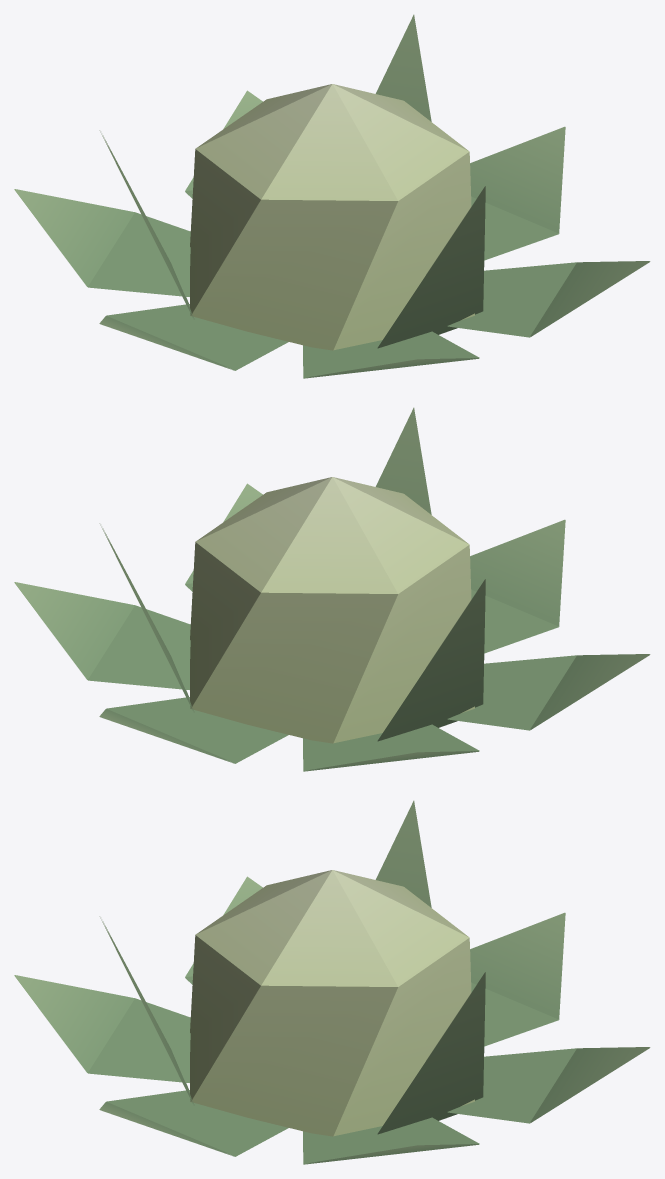
File: cabbage.glb
The picture shows the model from 3 angles, top to bottom: view 1: azimuth 30°, elevation 25°; view 2: azimuth 150°, elevation 25°; view 3: azimuth 270°, elevation 25°; orthographic projection.
Parts seen in each view (by area): view 1: Static; view 2: Static; view 3: Static.
Part boxes in pixels (x1,y1,x2,y2): Static: (14, 14, 650, 378); Static: (14, 407, 650, 771); Static: (14, 800, 650, 1164).
Size of the model in its own units: 0.6962 by 0.2508 by 0.6962.
